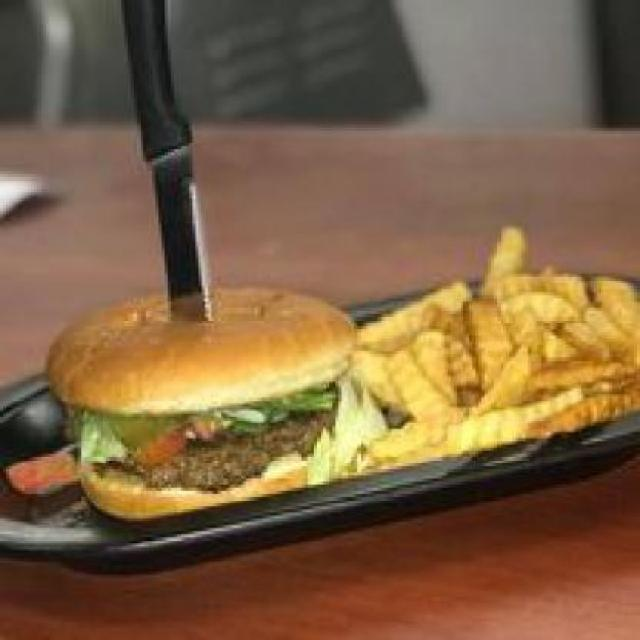french fries: (366, 220, 637, 469)
hamburger: (41, 280, 361, 522)
